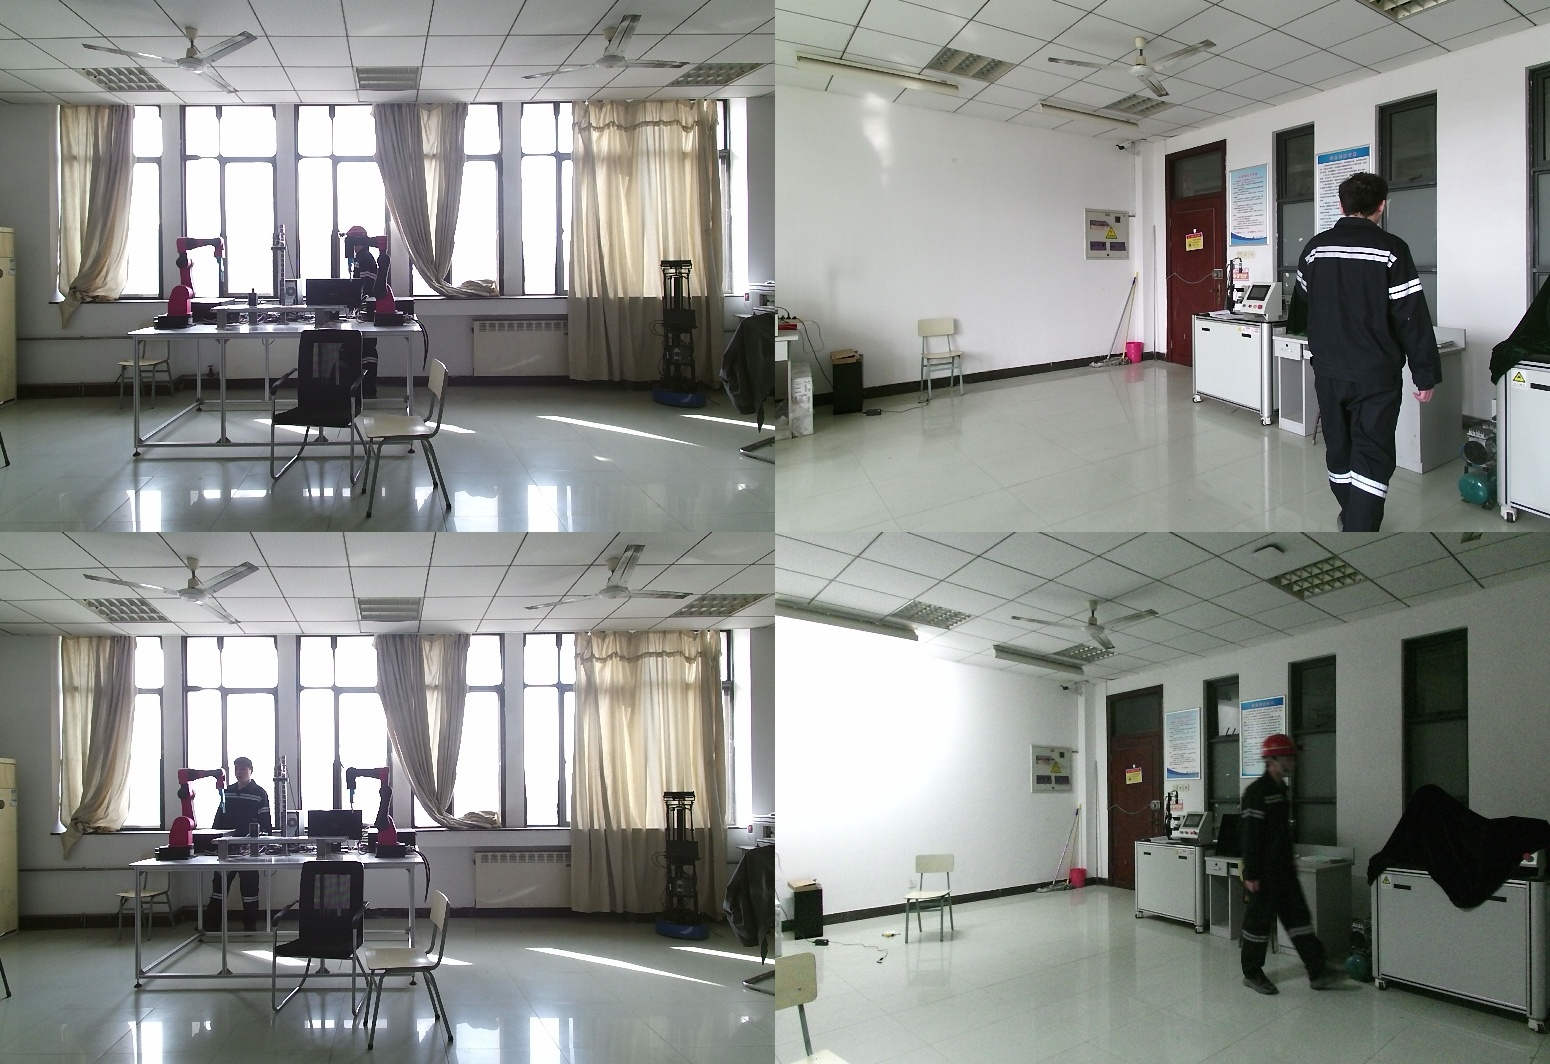person: (1296, 173, 1462, 532), (1227, 734, 1335, 994), (199, 758, 272, 946), (335, 225, 379, 398)
